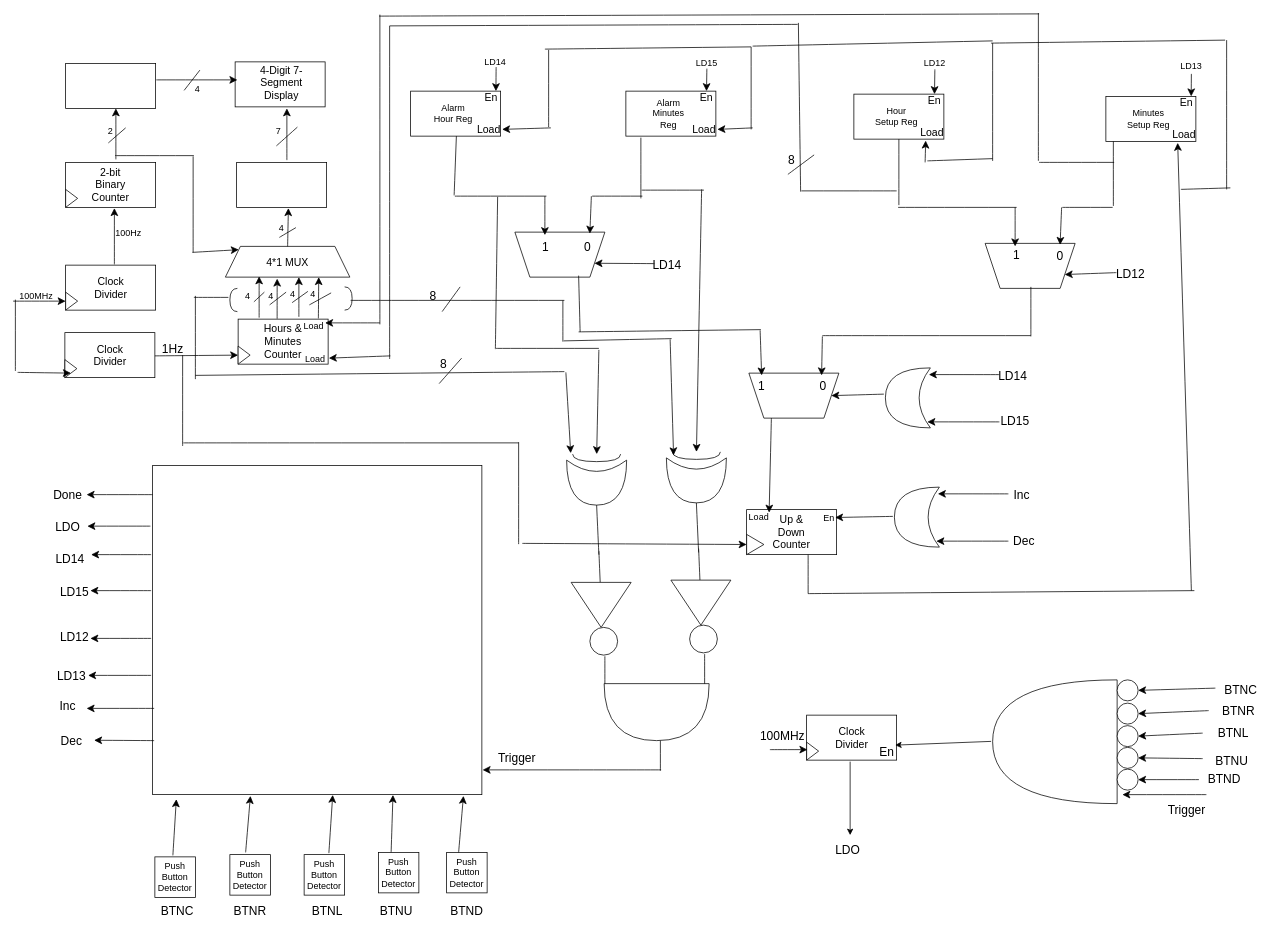
The diagram is 1277 pixels wide and 935 high, and some of its shapes have lost their labels. The centre of each missing label's shape, as x and y in pixels:
2*4 Binary Decoder: the point at 110,85
Binary to 7-Segment: the point at 281,184
Control Unit: the point at 317,630
